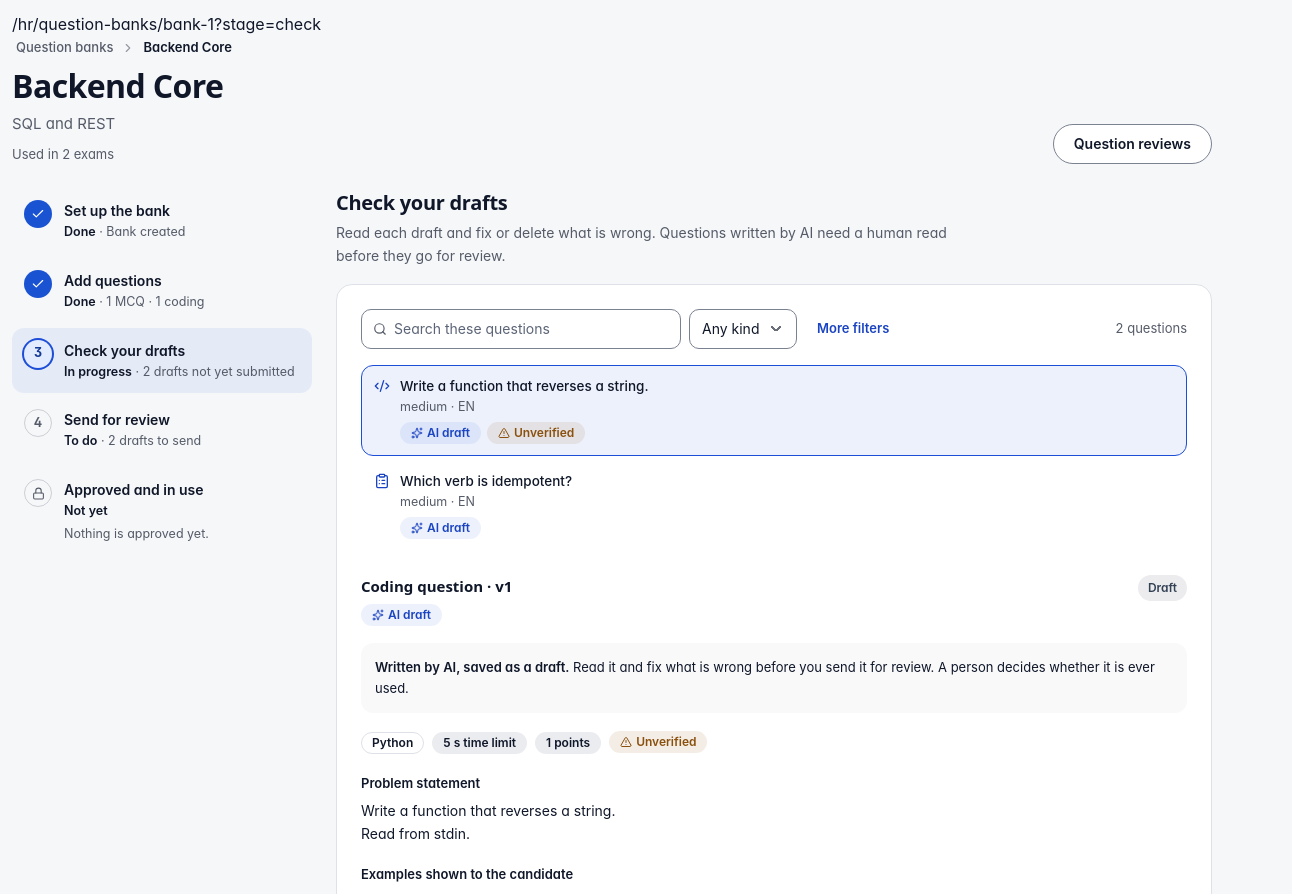
Scenario: QuestionBankFlow - check your drafts › opens the whole coding question - tests and code - and says nobody has run it
Expected: the element with test id "ai-draft-note" shows "Written by AI", left=375, top=659, right=569, bottom=675
Expected: the element with test id "unverified-badge" is shown, left=609, top=731, right=707, bottom=753
Choosing the other draft swaps the pane to the MCQ.
Click the button "Which verb is idempotent? medium · EN AI draft" at (420, 482), box left=361, top=460, right=1187, bottom=551
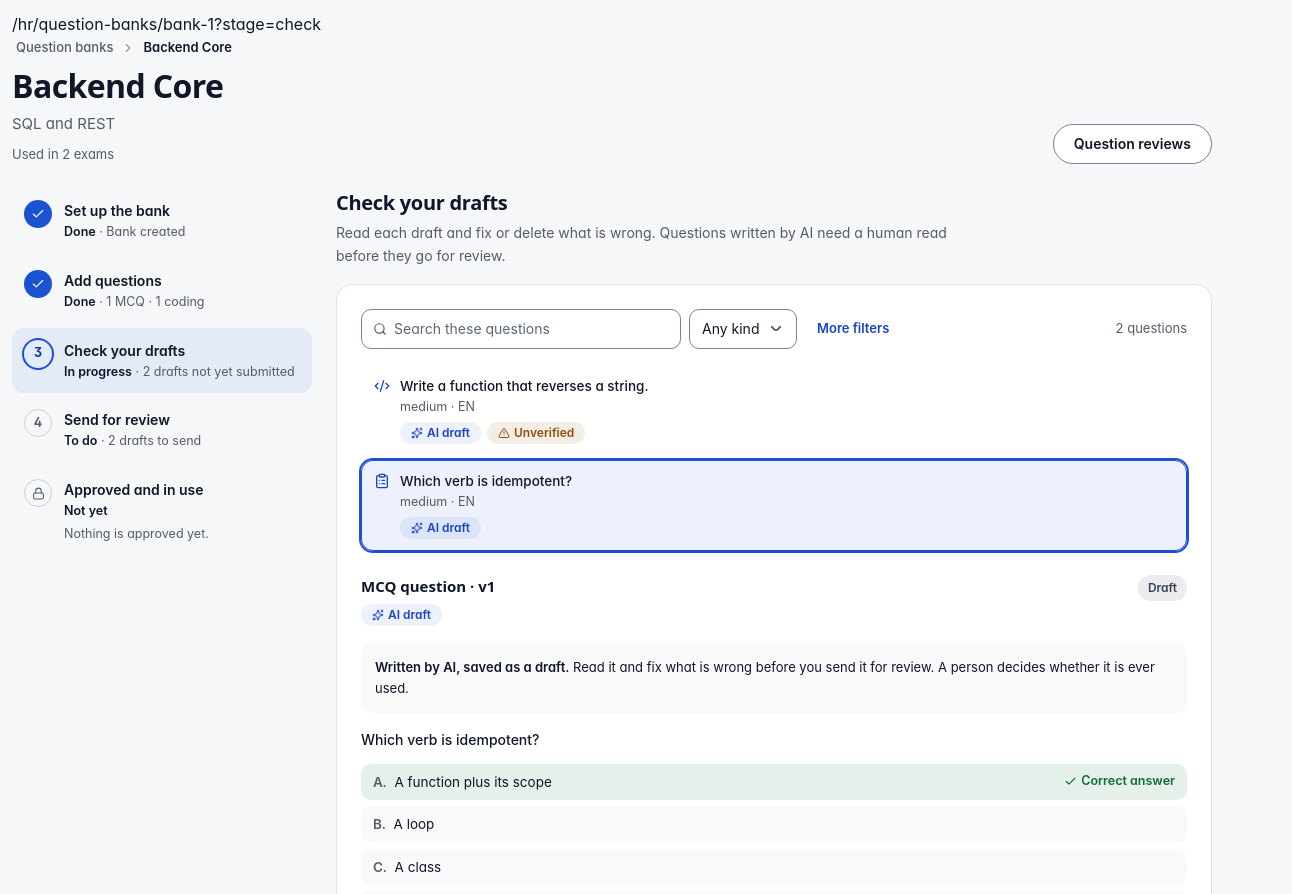
Expected: the element with test id "mcq-read-view" shows "Which verb is idempotent?", left=361, top=731, right=539, bottom=748
Expected: the text "Correct answer" is shown, left=1064, top=772, right=1175, bottom=791
